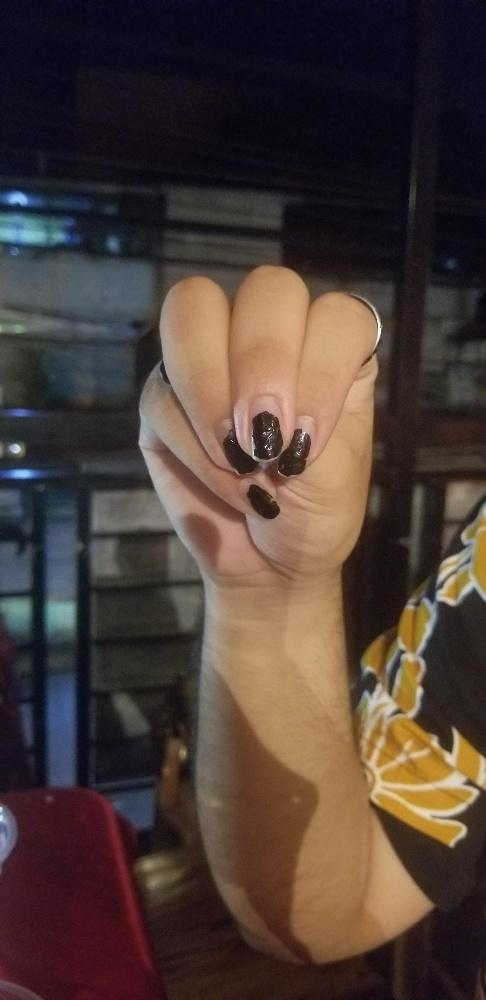m: (128, 260, 386, 573)
